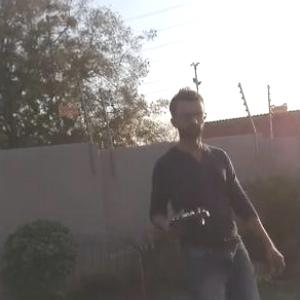follow: (144, 80, 292, 299)
